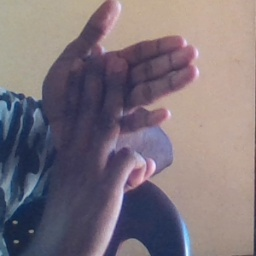M: (42, 1, 204, 211)
